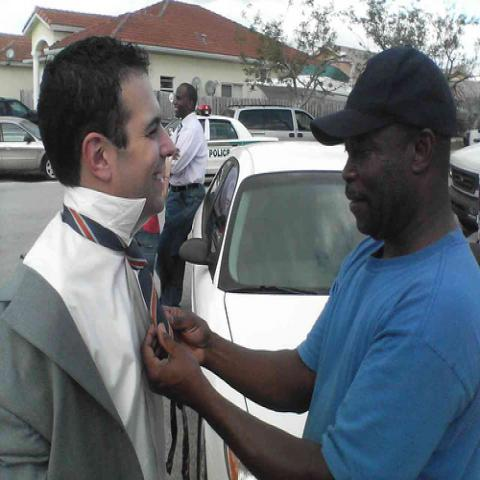car: (180, 140, 369, 475), (203, 118, 274, 185), (0, 117, 56, 180), (222, 107, 316, 142), (449, 140, 479, 232), (0, 97, 39, 122)
